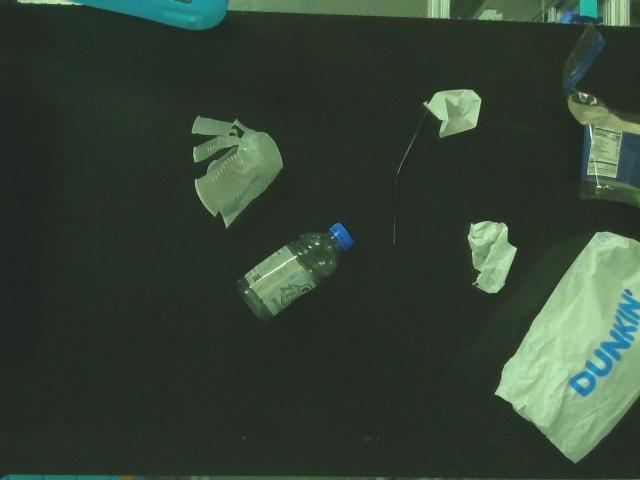paper: (491, 228, 640, 466), (462, 216, 522, 298), (422, 84, 484, 142)
plastic: (561, 19, 640, 209), (233, 221, 360, 326), (188, 111, 288, 234), (388, 102, 433, 248)
